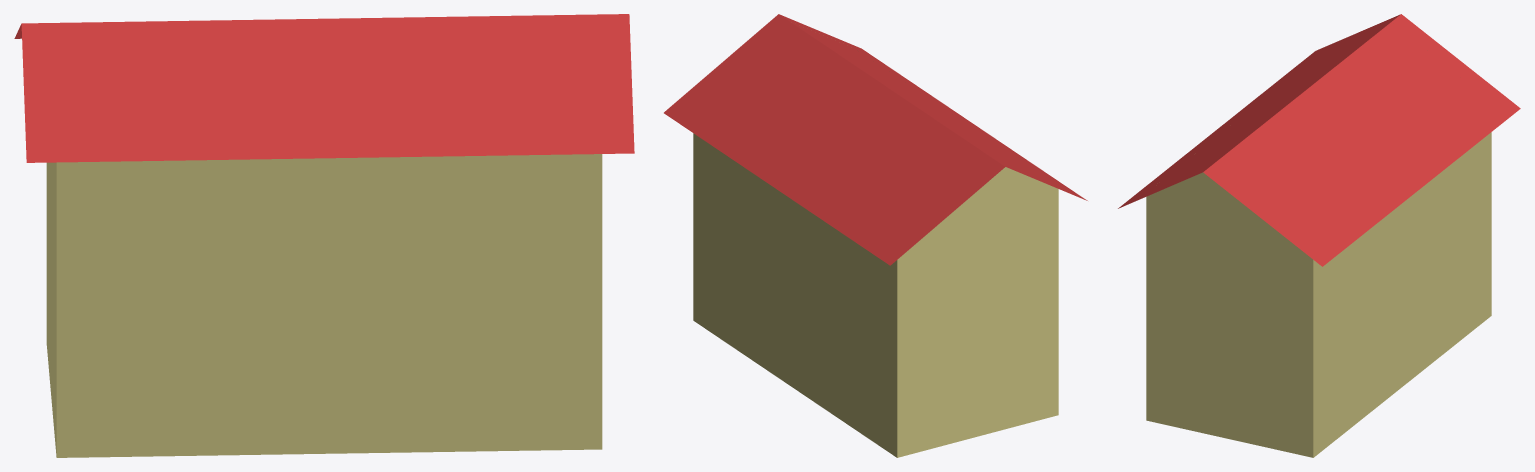
3 renders of one model, left to right at view 1: azimuth 30°, elevation 25°; view 2: azimuth 150°, elevation 25°; view 3: azimuth 270°, elevation 25°, orthographic. The views are drawn at different scales.
Parts seen in each view (by area): view 1: group_5, group_3, group_4; view 2: group_5, group_3, group_4; view 3: group_5, group_3, group_4.
Boxes of the visible parts, box(x1,y1,x2,y2) form: group_5: box(46, 154, 602, 457); group_3: box(14, 14, 633, 162); group_4: box(28, 14, 634, 162); group_5: box(693, 133, 1058, 457); group_3: box(694, 14, 1087, 248); group_4: box(664, 14, 1085, 265); group_5: box(1146, 132, 1491, 457); group_3: box(1147, 14, 1491, 243); group_4: box(1118, 14, 1520, 266).
Bounding box in the file's own units: 22.29 × 18.62 × 13.8.
